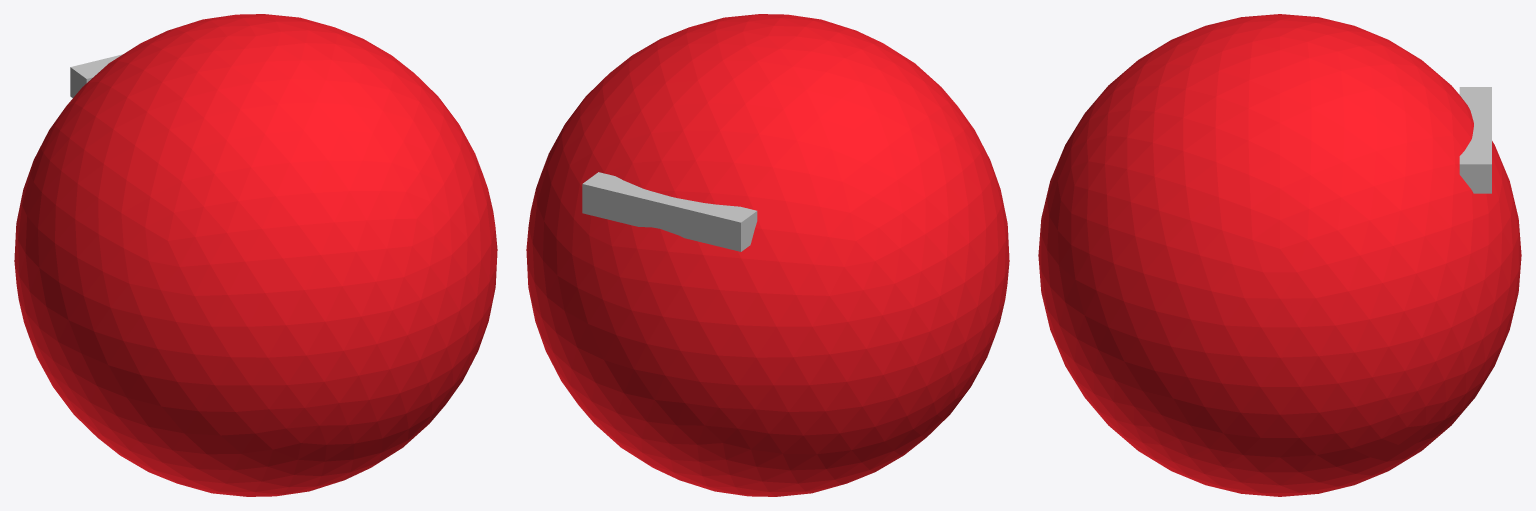
Rendered from redBall.obj.
3 views of the same model, side by side, from view 1: azimuth 30°, elevation 25°; view 2: azimuth 150°, elevation 25°; view 3: azimuth 270°, elevation 25° (orthographic).
Parts seen in each view (by area): view 1: Icosphere; view 2: Icosphere; view 3: Icosphere.
Part boxes in pixels (x1=…): Icosphere: x1=14, y1=14, x2=497, y2=496; Icosphere: x1=526, y1=14, x2=1009, y2=496; Icosphere: x1=1038, y1=14, x2=1521, y2=496.
Size of the model in its own units: 2 by 2 by 2.
